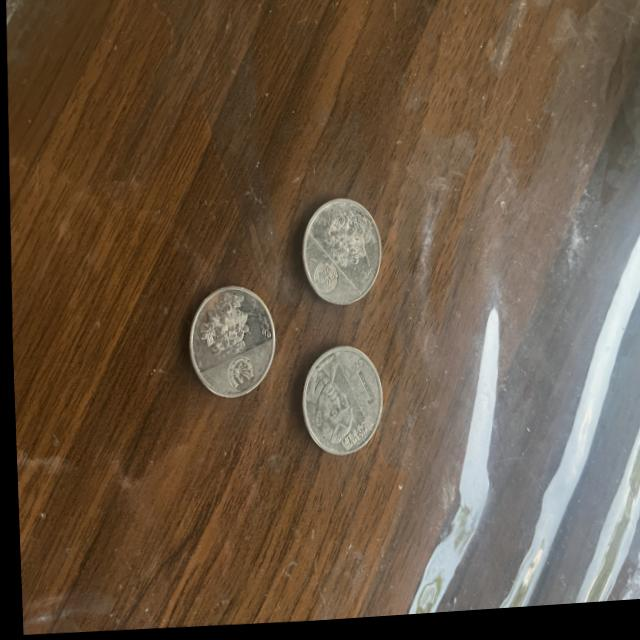1_New_Back: (193, 289, 258, 367), (318, 205, 375, 277)
1_New_Front: (342, 361, 378, 412)
